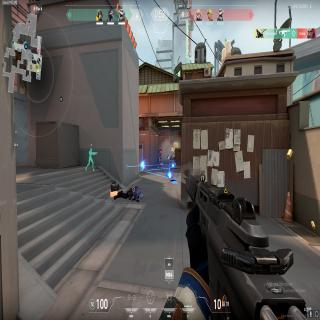ENEMY-HEAD: (159, 148, 161, 151)
